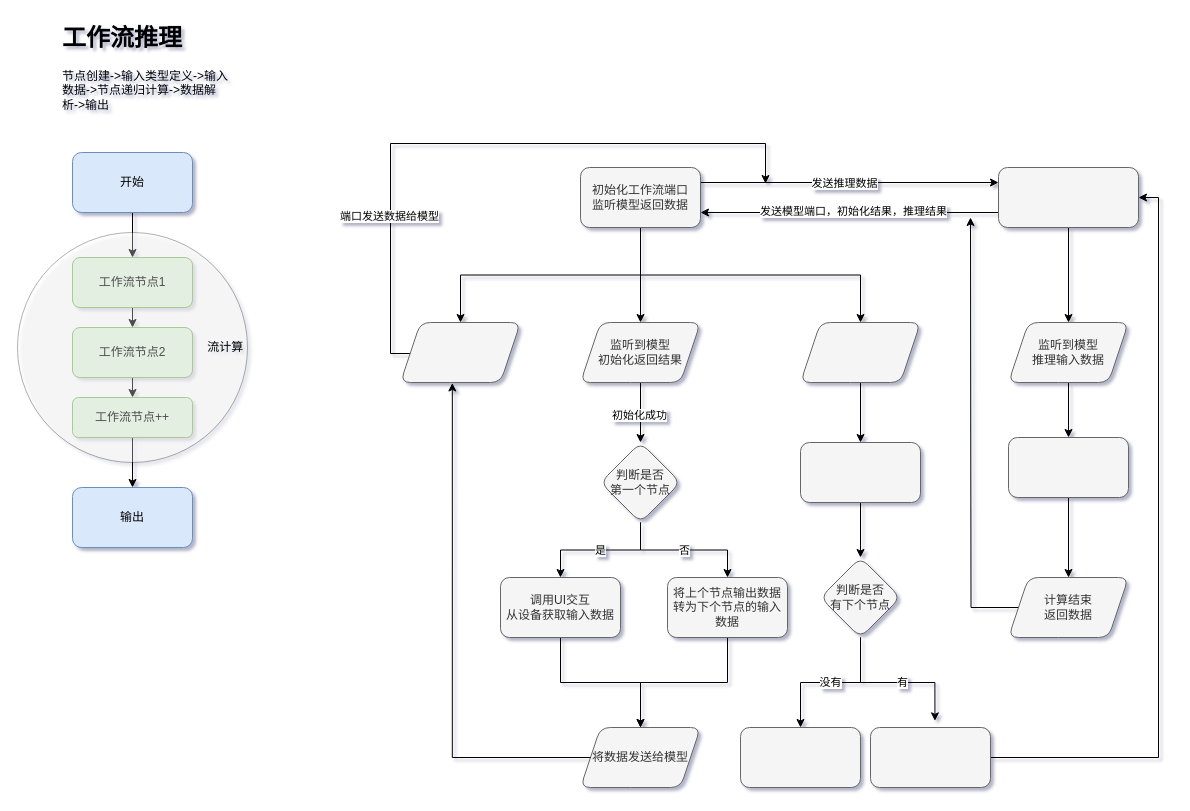
Some shapes in this 1190 by 811 pixel diagram are drawn without their labels. The shapes that lost their labels are listed below. From the top down, each one's centre as x and y in pixels, then its label:
At point 1068,197: "初始化模型 初始化模型数据接收端口".
At point 460,352: "监听到模型 数据发送端口".
At point 860,352: "监听到模型 计算返回结果".
At point 860,472: "解析计算结果 标记当前节点 模型 推理结束".
At point 1068,467: "模型端口接收到数据，开始计算".
At point 800,757: "工作流推理结束 输出最终数据".
At point 930,757: "触发下个模型初始化".
